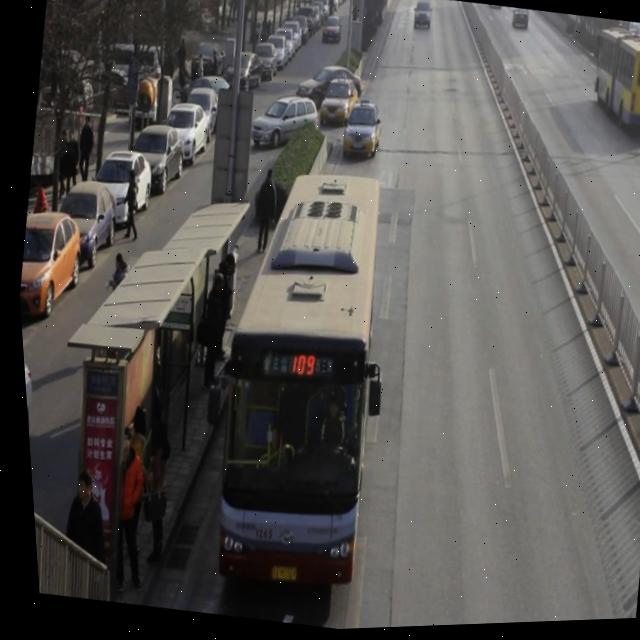car: (293, 64, 364, 120), (337, 101, 384, 165), (315, 78, 361, 134)
van: (183, 161, 404, 589), (583, 32, 640, 148)
